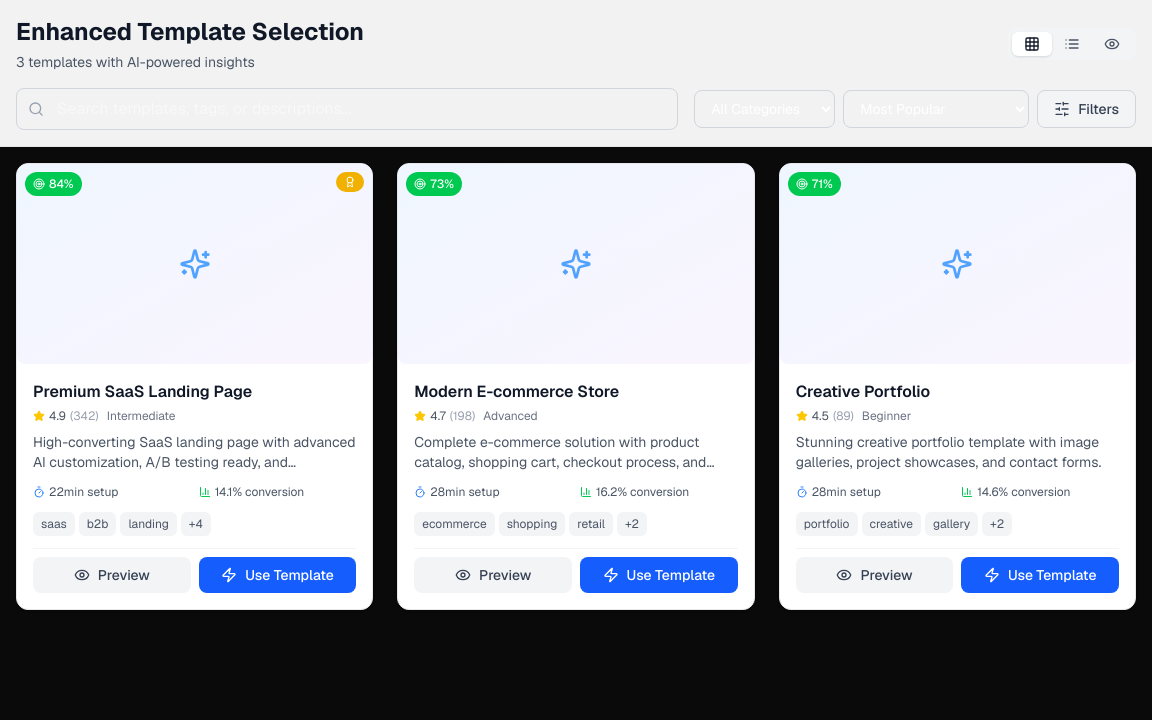
it: EnhancedTemplateSelector › Enhanced Filtering and Sorting › should toggle advanced filters
The width and height of the screenshot is (1152, 720).
Note: Click to show filters
Click the button "Filters" at [1087, 109], box [1037,90,1136,128]
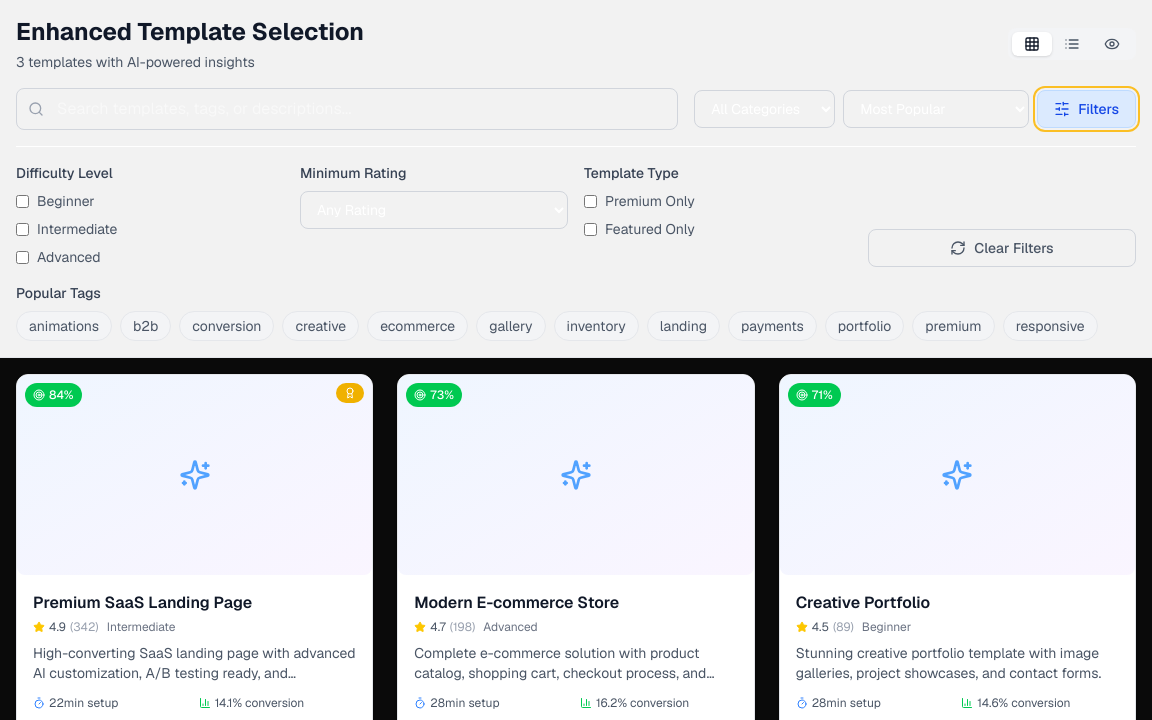
Expected: the text "Difficulty Level" is shown, [16,164,113,182]
Expected: the text "Minimum Rating" is shown, [300,164,406,182]
Expected: the text "Template Type" is shown, [584,164,679,182]
